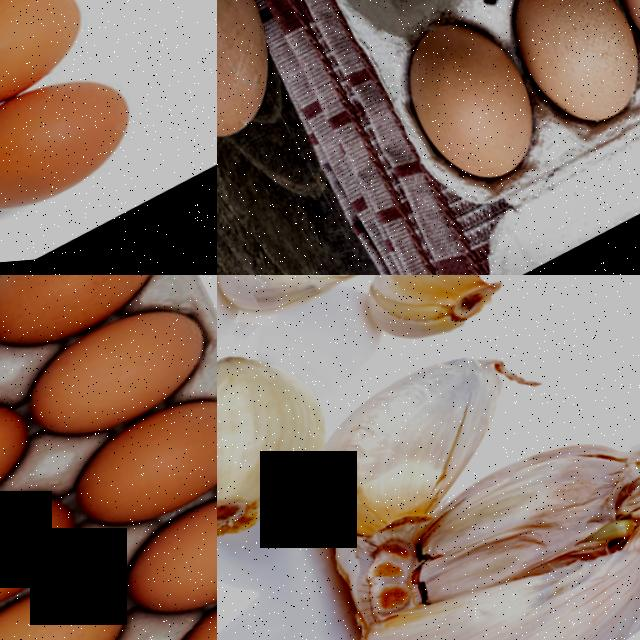egg_: (372, 1, 554, 212), (2, 287, 217, 464), (0, 53, 152, 252), (48, 377, 217, 554), (483, 0, 640, 154), (100, 470, 217, 640), (0, 275, 184, 376), (0, 468, 92, 640), (0, 0, 103, 150), (217, 0, 303, 168), (0, 559, 139, 640), (0, 376, 47, 554), (583, 0, 640, 95)
garlic: (304, 392, 640, 640), (286, 330, 552, 550), (217, 326, 337, 519), (342, 275, 550, 364), (217, 275, 394, 333)
